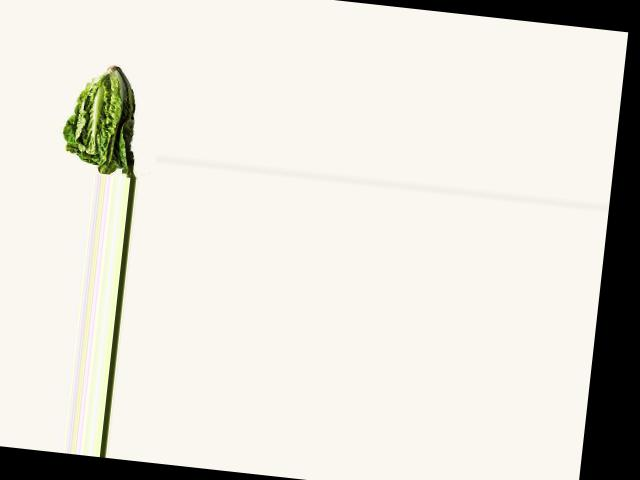lettuce: (55, 63, 144, 177)
